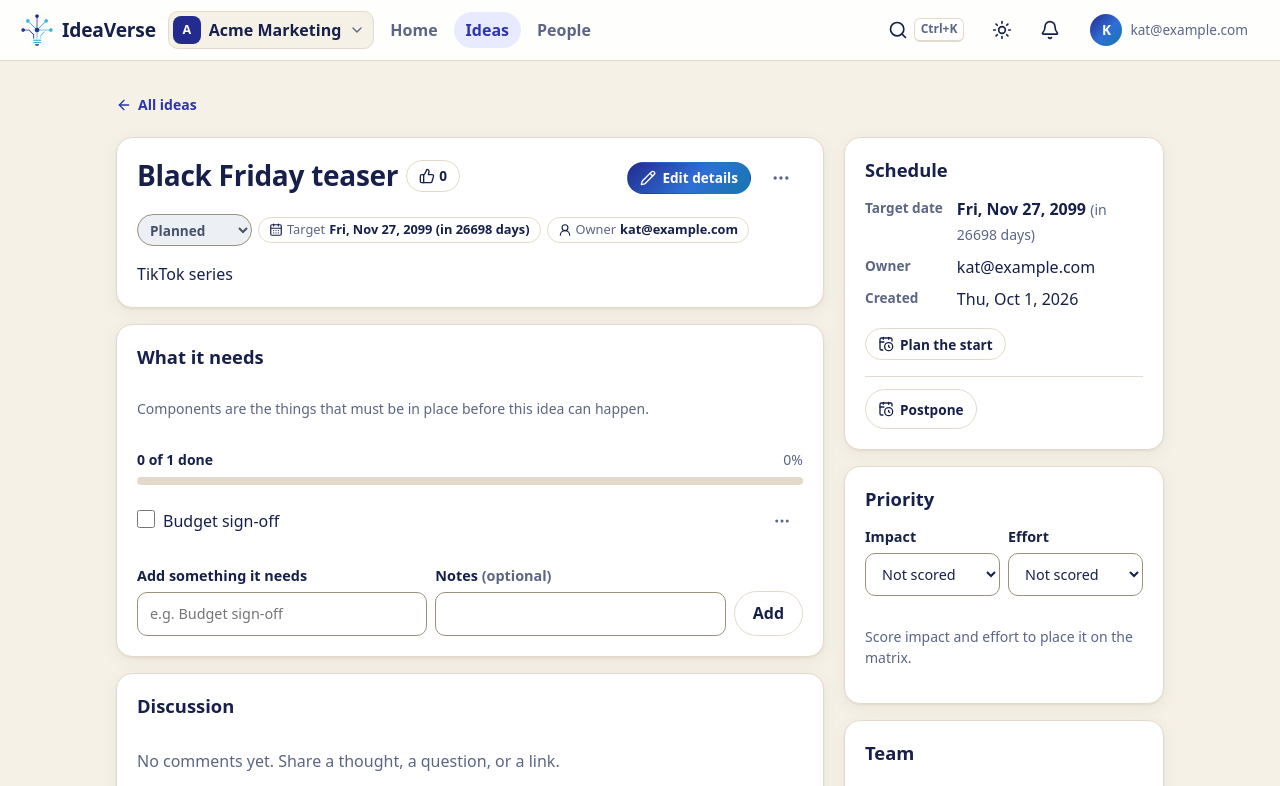
it: Assignments › picks the signed-in user in the editor with Assign to me
The image size is (1280, 786).
Click the button named "More actions for Budget sign-off" at (782, 521), box [761,501,803,541]
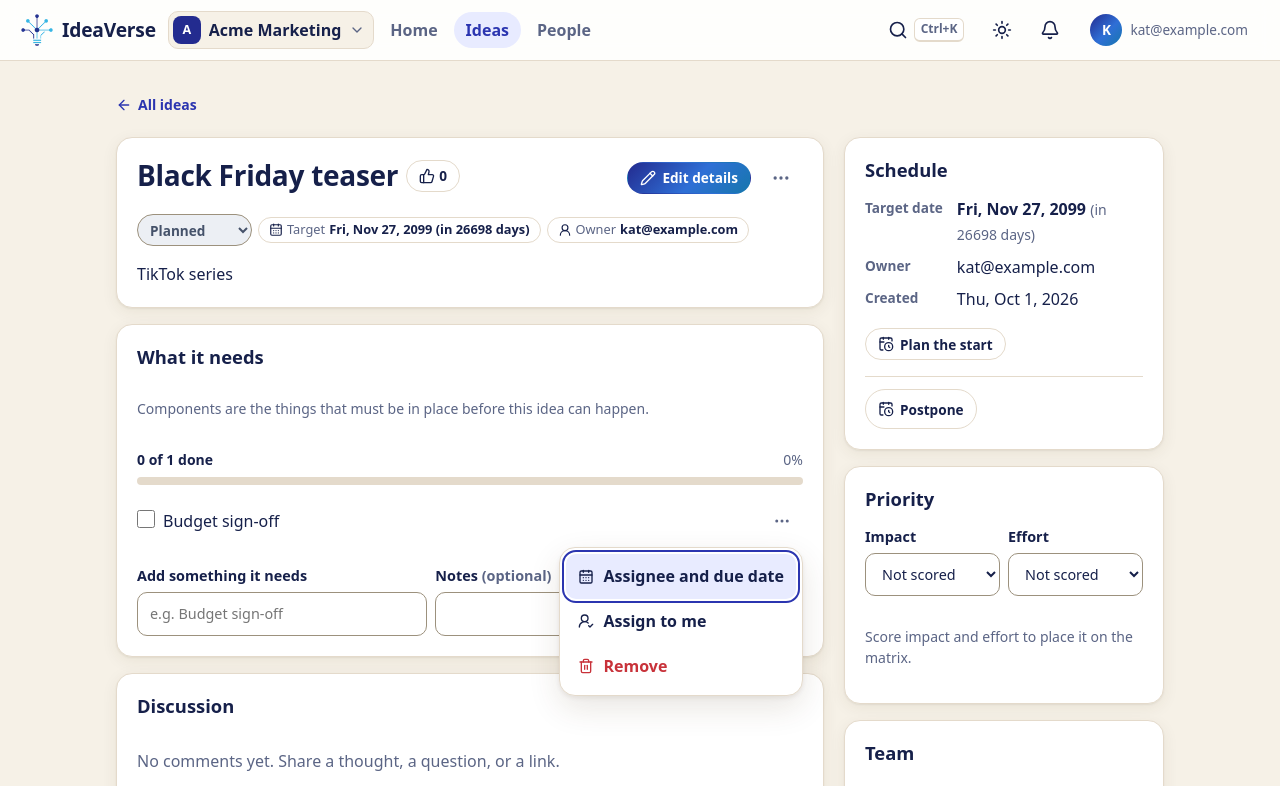
Click the menu item "Assignee and due date" at (681, 577), box [566,554,796,599]
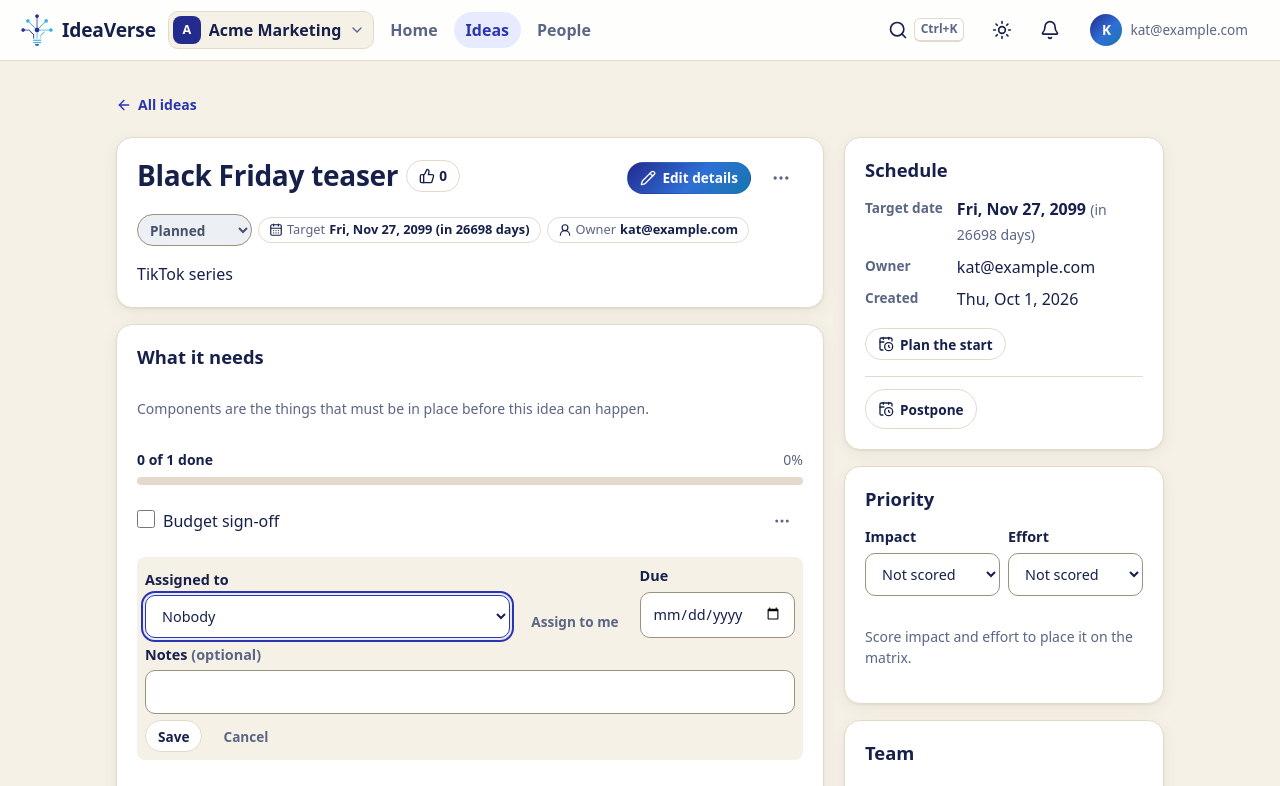
Click the button "Assign to me" at (575, 622), box [518,606,632,638]
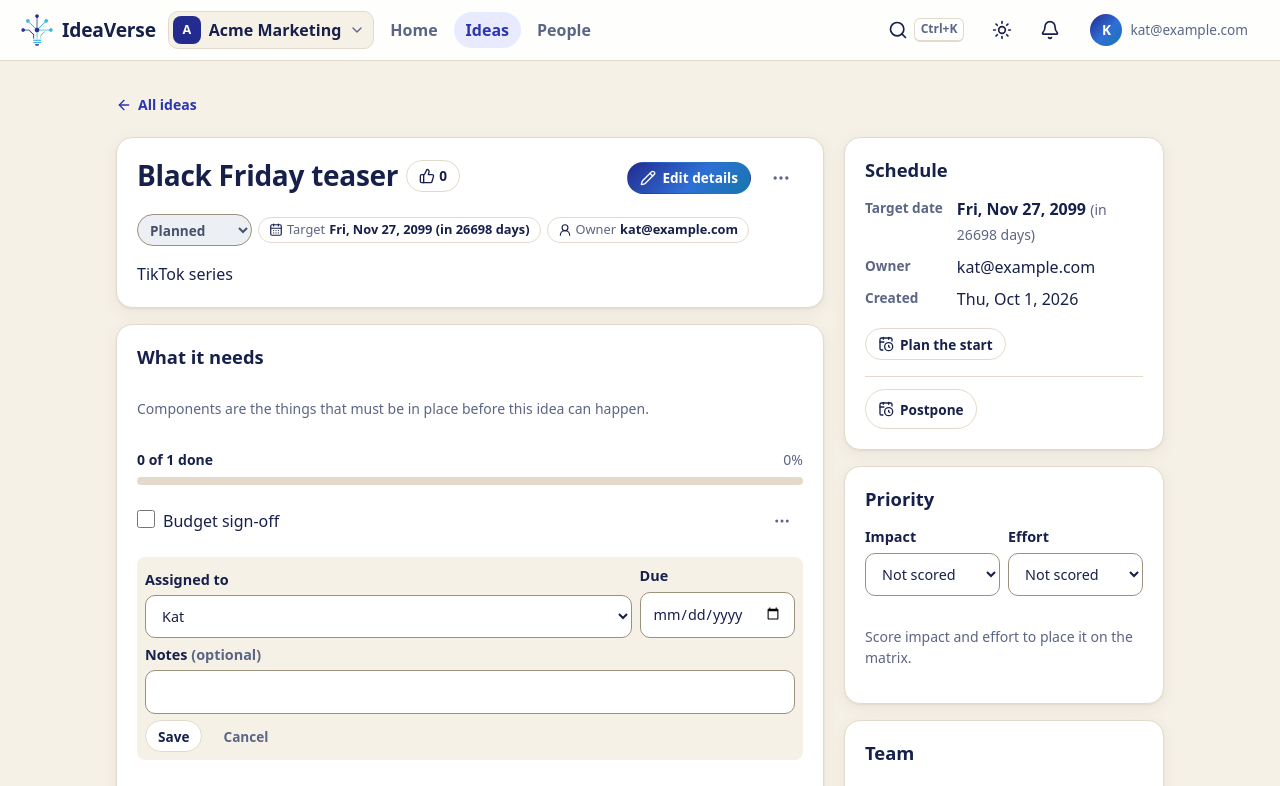
Expected: the dropdown labelled "Assigned to" shows "Kat", [145,595,632,638]
Expected: the button "Assign to me" is gone
